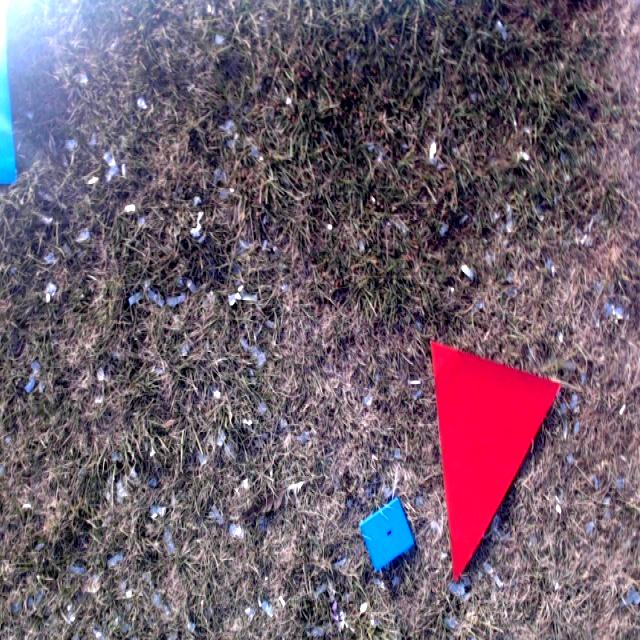red_triangle: (431, 340, 560, 582)
